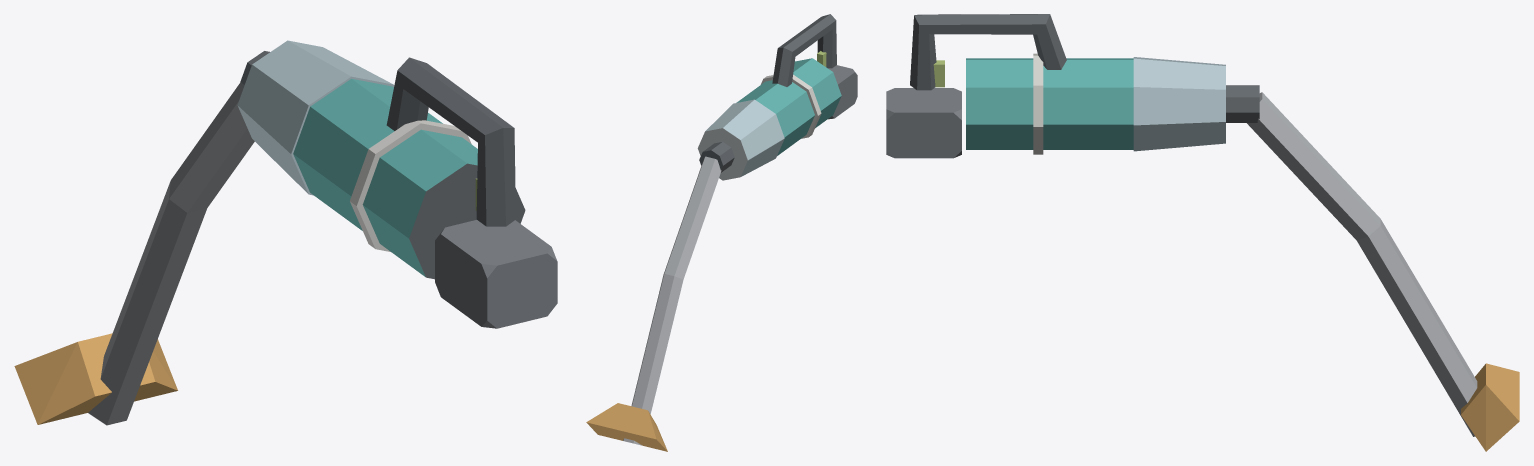
File: tool_vacuum.glb
The picture shows the model from 3 angles, left to right: view 1: azimuth 30°, elevation 25°; view 2: azimuth 150°, elevation 25°; view 3: azimuth 270°, elevation 25°; orthographic projection. The views are drawn at different scales.
Visible parts, largest first — view 1: tool_vacuum; view 2: tool_vacuum; view 3: tool_vacuum.
Boxes of the visible parts, <box> form: tool_vacuum: <box>14,40,557,425</box>; tool_vacuum: <box>586,14,857,451</box>; tool_vacuum: <box>886,14,1519,451</box>.
Bounding box in the file's own units: 0.14 × 0.5518 × 0.755.
